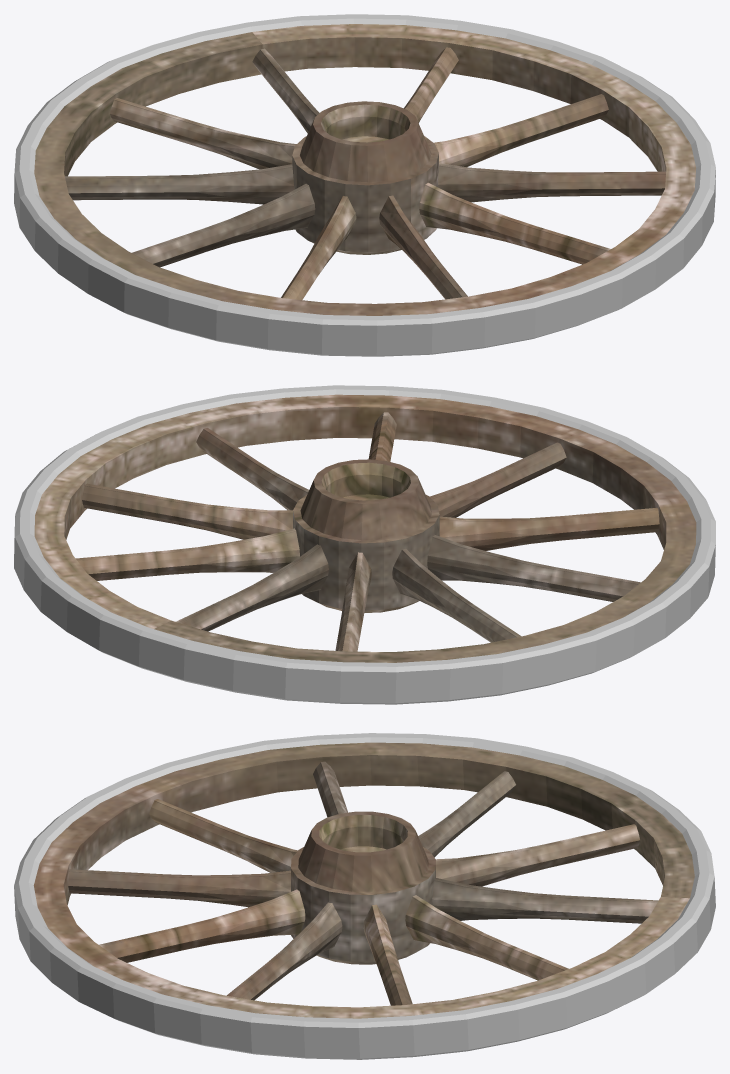
Rendered from SM_CartWheel_01.fbx.
3 renders of one model, top to bottom at view 1: azimuth 30°, elevation 25°; view 2: azimuth 150°, elevation 25°; view 3: azimuth 270°, elevation 25°, orthographic.
Visible parts, largest first — view 1: SM_CartWheel_01_LOD0; view 2: SM_CartWheel_01_LOD0; view 3: SM_CartWheel_01_LOD0.
Boxes of the visible parts, box(x1,y1,x2,y2) form: SM_CartWheel_01_LOD0: box(14, 14, 715, 356); SM_CartWheel_01_LOD0: box(14, 385, 715, 704); SM_CartWheel_01_LOD0: box(14, 733, 715, 1059).
Size of the model in its own units: 87.68 by 87.78 by 14.53.
